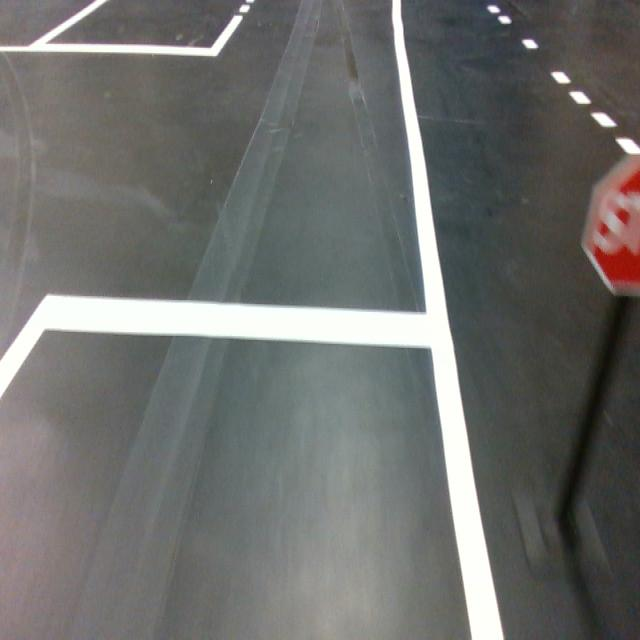stop-sign: (581, 154, 640, 298)
